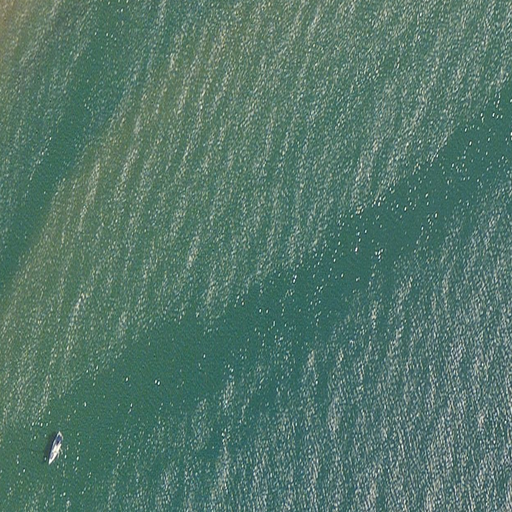ship: (48, 432, 65, 465)
